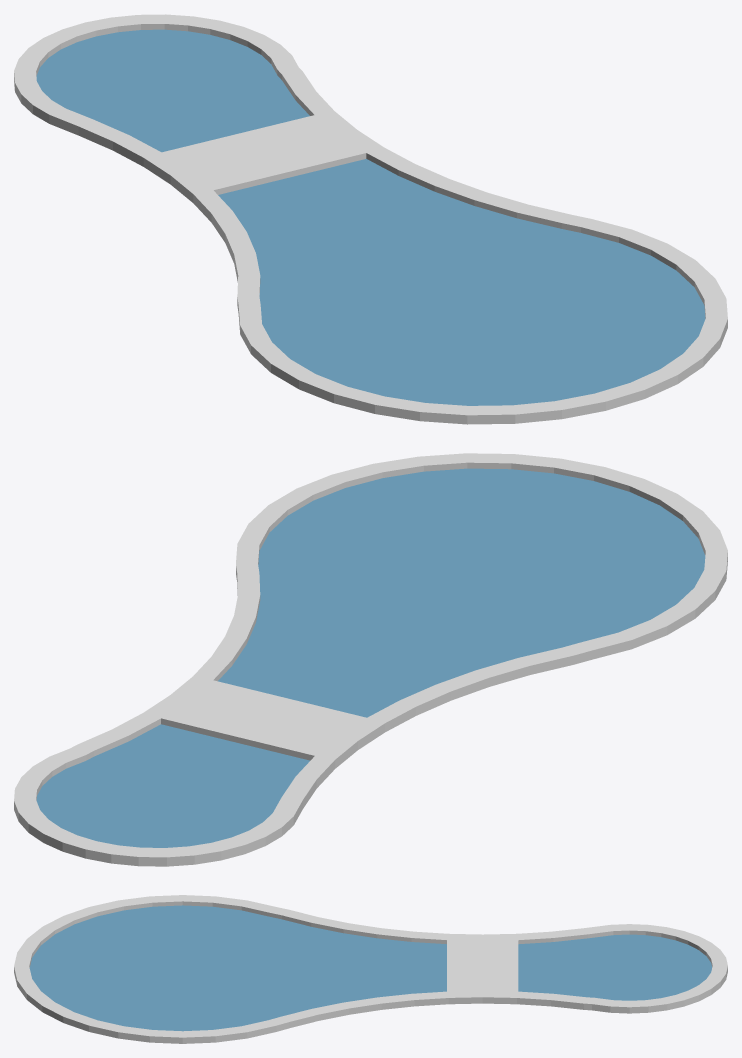
The model's file is Pond.fbx.
The picture shows the model from 3 angles, top to bottom: view 1: azimuth 30°, elevation 25°; view 2: azimuth 150°, elevation 25°; view 3: azimuth 270°, elevation 25°; orthographic projection. The views are drawn at different scales.
Parts seen in each view (by area): view 1: Pond; view 2: Pond; view 3: Pond.
Boxes of the visible parts, x1=… form: Pond: x1=14, y1=14, x2=727, y2=424; Pond: x1=14, y1=453, x2=727, y2=866; Pond: x1=14, y1=895, x2=727, y2=1043.
Bounding box in the file's own units: 6.87 × 0.1423 × 14.53.
